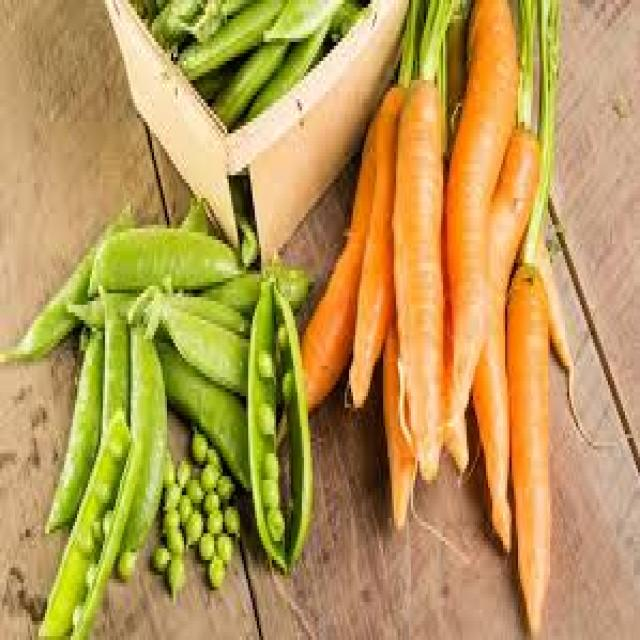biodegradable: (443, 0, 518, 469), (469, 122, 537, 552), (37, 408, 142, 636), (390, 72, 448, 484), (0, 202, 133, 358), (503, 259, 550, 636), (349, 80, 402, 408), (302, 126, 355, 415), (154, 332, 248, 488), (127, 278, 249, 396), (268, 271, 311, 572), (41, 324, 101, 533), (244, 278, 285, 568), (116, 320, 165, 560), (84, 221, 236, 297), (516, 225, 571, 427), (518, 0, 557, 263), (379, 297, 415, 530), (242, 23, 330, 118), (174, 0, 283, 69), (64, 294, 246, 332), (197, 267, 310, 324), (210, 42, 285, 118), (97, 286, 127, 450), (417, 0, 457, 72), (261, 0, 342, 34), (177, 0, 248, 34), (514, 0, 533, 122), (394, 0, 422, 80), (146, 0, 199, 42), (178, 191, 206, 236), (329, 0, 361, 34), (236, 210, 253, 259), (165, 556, 182, 598), (115, 545, 135, 575), (206, 552, 223, 587), (259, 472, 276, 507), (182, 507, 199, 541), (189, 427, 204, 465), (184, 472, 199, 507), (221, 503, 238, 533), (195, 530, 212, 560), (165, 526, 182, 556), (148, 541, 165, 571), (255, 343, 270, 377), (257, 400, 272, 434), (281, 362, 294, 400), (176, 491, 189, 526), (216, 469, 231, 499), (266, 507, 281, 537), (214, 530, 231, 556), (199, 461, 214, 488), (159, 507, 176, 530), (79, 530, 94, 556), (161, 453, 174, 480), (163, 480, 176, 507), (96, 480, 109, 507), (201, 488, 216, 511), (174, 457, 189, 480), (261, 450, 276, 473), (84, 560, 94, 590), (206, 507, 219, 530), (204, 446, 219, 465), (99, 511, 109, 537), (274, 324, 285, 347), (69, 602, 79, 625), (109, 438, 120, 457), (90, 514, 98, 537)
cardboard: (226, 0, 404, 251), (112, 0, 234, 240)
